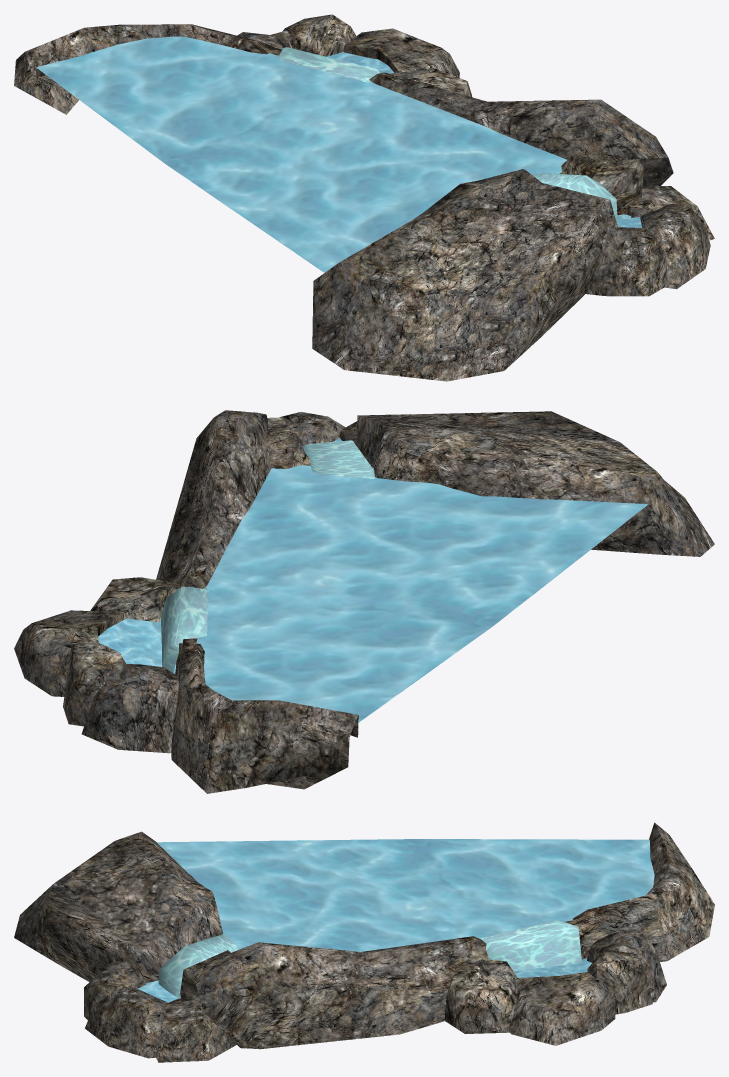
Rendered from pir_m_prp_cav_pool_water_tall_med.fbx.
3 views of the same model, one above another, from view 1: azimuth 30°, elevation 25°; view 2: azimuth 150°, elevation 25°; view 3: azimuth 270°, elevation 25° (orthographic). The views are drawn at different scales.
Visible parts, largest first — view 1: rock_wall, pool_water, rock_litter, rock_litter_7, waterfall_1, waterfall_0; view 2: pool_water, rock_wall, rock_litter, waterfall_1, pool_water2, waterfall_0, rock_litter_7; view 3: rock_wall, pool_water, rock_litter, rock_litter_7, waterfall_1, waterfall_0, pool_water2, pool_water1.
Part boxes in pixels (box(x1,y1,x2,y2)): rock_wall: box(14, 24, 673, 381); pool_water: box(36, 36, 567, 272); rock_litter: box(237, 14, 714, 296); rock_litter_7: box(640, 204, 710, 289); waterfall_1: box(279, 47, 381, 82); waterfall_0: box(533, 173, 617, 220); pool_water: box(196, 465, 647, 721); rock_wall: box(156, 410, 714, 793); rock_litter: box(14, 421, 357, 753); waterfall_1: box(161, 586, 208, 672); pool_water2: box(98, 618, 176, 673); waterfall_0: box(302, 440, 374, 478); rock_litter_7: box(279, 412, 345, 449); rock_wall: box(14, 822, 714, 1049); pool_water: box(157, 839, 654, 951); rock_litter: box(84, 929, 666, 1062); rock_litter_7: box(85, 986, 167, 1058); waterfall_1: box(479, 920, 581, 971); waterfall_0: box(158, 934, 238, 998); pool_water2: box(513, 958, 591, 977); pool_water1: box(137, 980, 177, 1002).
Size of the model in its own units: 4158 by 1032 by 6861.
3 materials, 3 textured.
